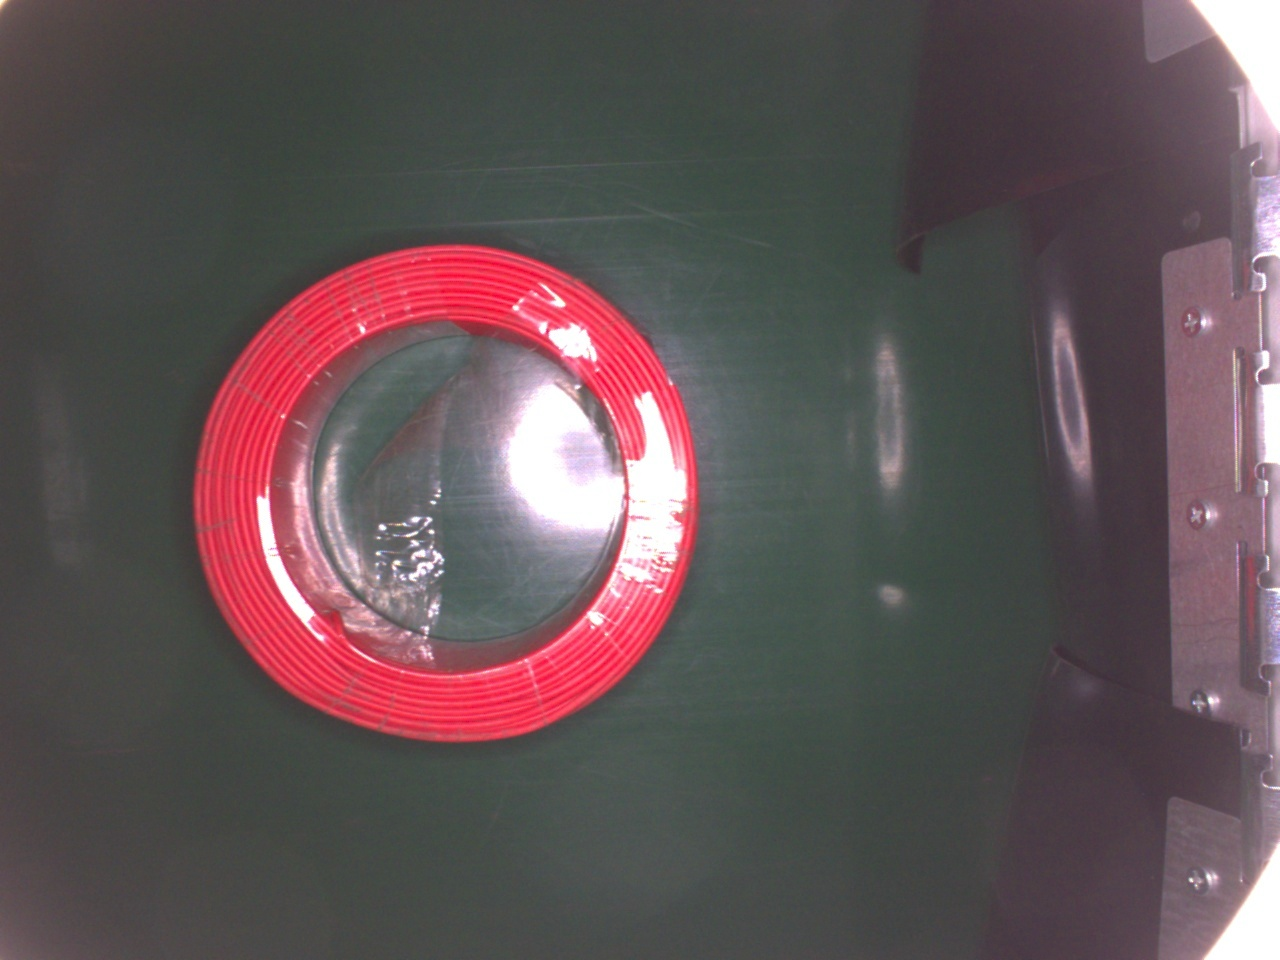red: (188, 241, 707, 740)
